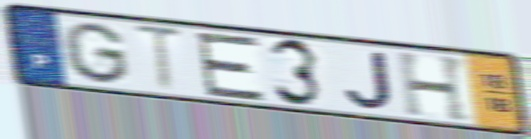3: (265, 37, 331, 109)
E: (193, 30, 269, 103)
G: (60, 19, 133, 86)
H: (393, 50, 473, 124)
J: (343, 49, 396, 112)
T: (130, 21, 188, 96)
